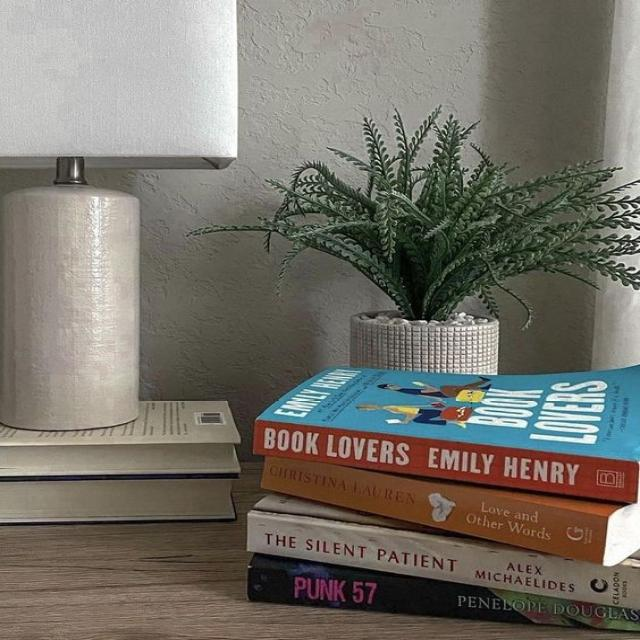book: (244, 512, 640, 609), (261, 455, 610, 563), (256, 421, 639, 501), (248, 564, 638, 631)
plants: (192, 109, 639, 374)
